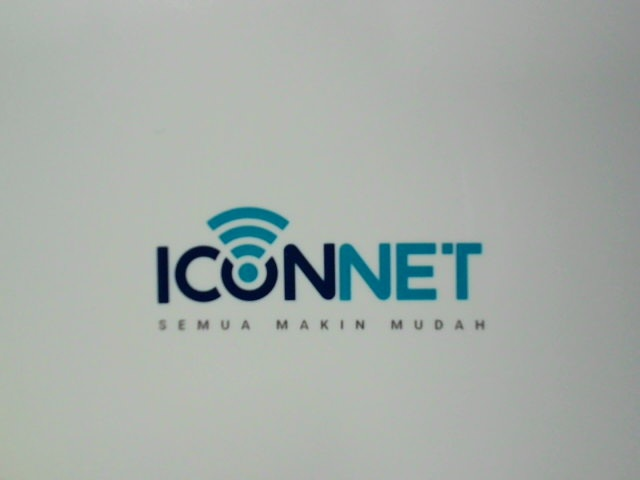BM_ICONNET: (132, 192, 500, 351)
